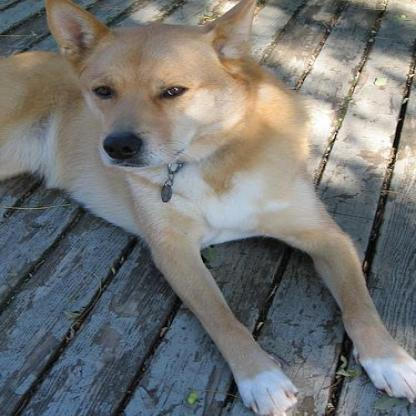dingo: (0, 0, 413, 414)
